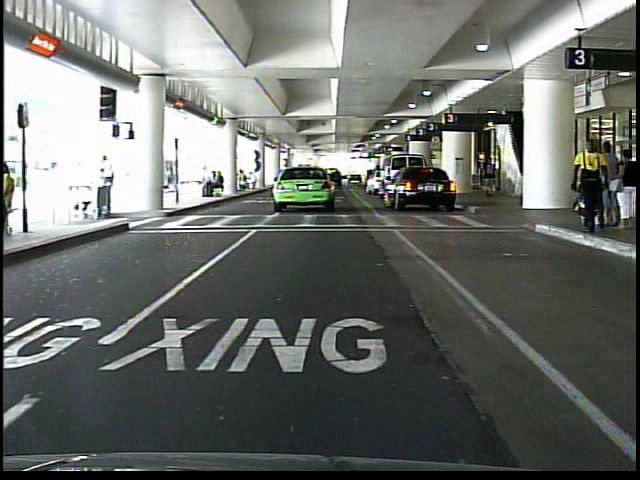person: (563, 137, 607, 239), (594, 144, 620, 233), (94, 155, 127, 222), (618, 143, 640, 237), (479, 156, 500, 205)
